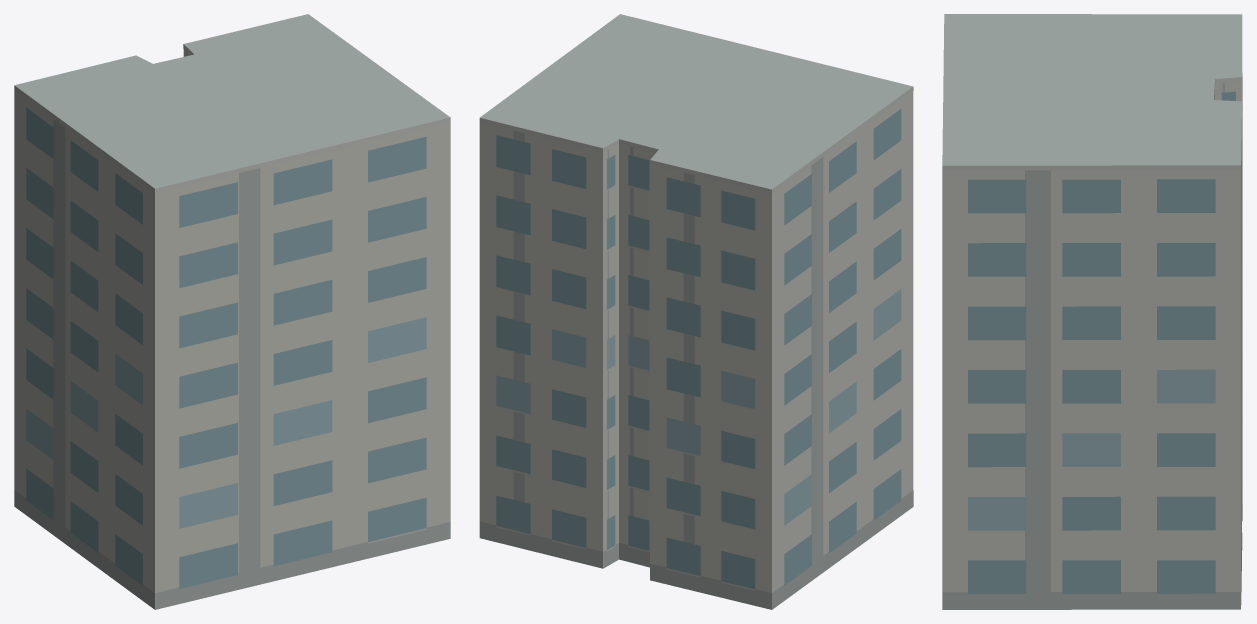
File: survey-upis-32874557.glb
3 views of the same model, side by side, from view 1: azimuth 30°, elevation 25°; view 2: azimuth 150°, elevation 25°; view 3: azimuth 270°, elevation 25° (orthographic). The views are drawn at different scales.
Visible parts, largest first — view 1: survey-upis-32874557.tmp; view 2: survey-upis-32874557.tmp; view 3: survey-upis-32874557.tmp.
Part boxes in pixels (x1,y1,x2,y2): survey-upis-32874557.tmp: [14, 14, 450, 609]; survey-upis-32874557.tmp: [479, 14, 913, 609]; survey-upis-32874557.tmp: [942, 14, 1242, 609].
Size of the model in its own units: 16.63 by 22.7 by 13.92.
